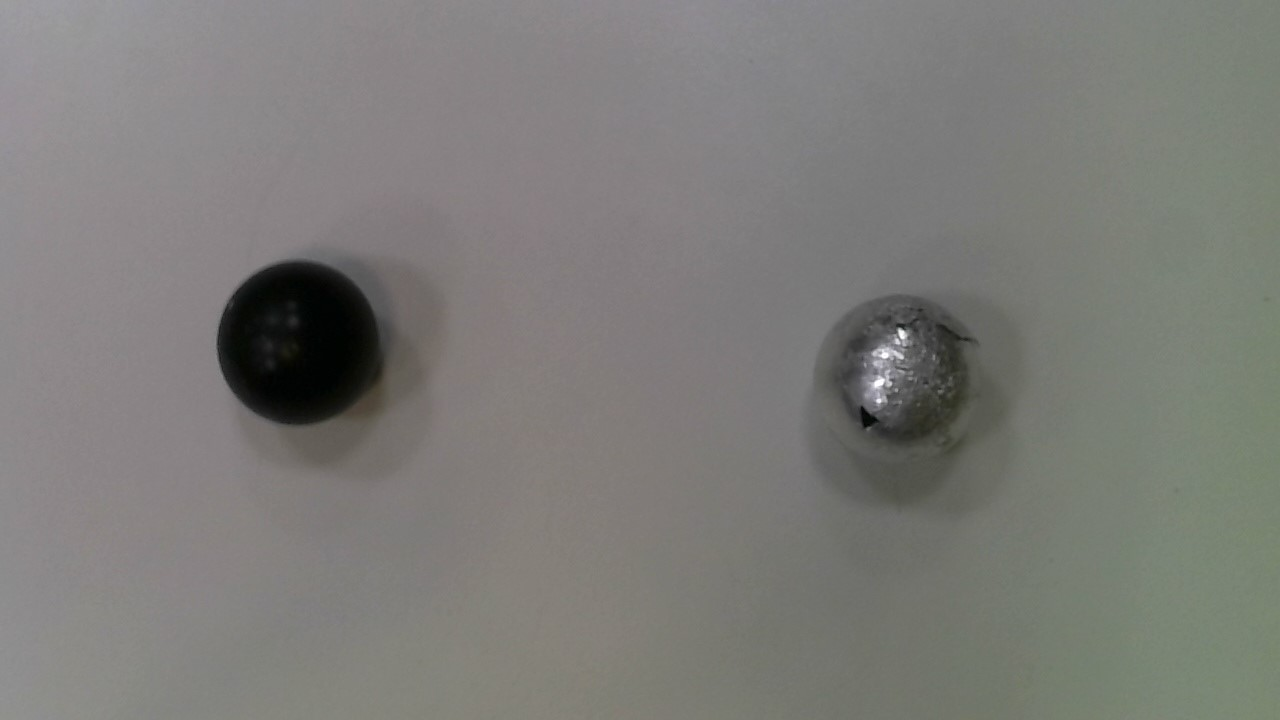black_ball: (210, 252, 386, 433)
silver_ball: (812, 295, 978, 471)
